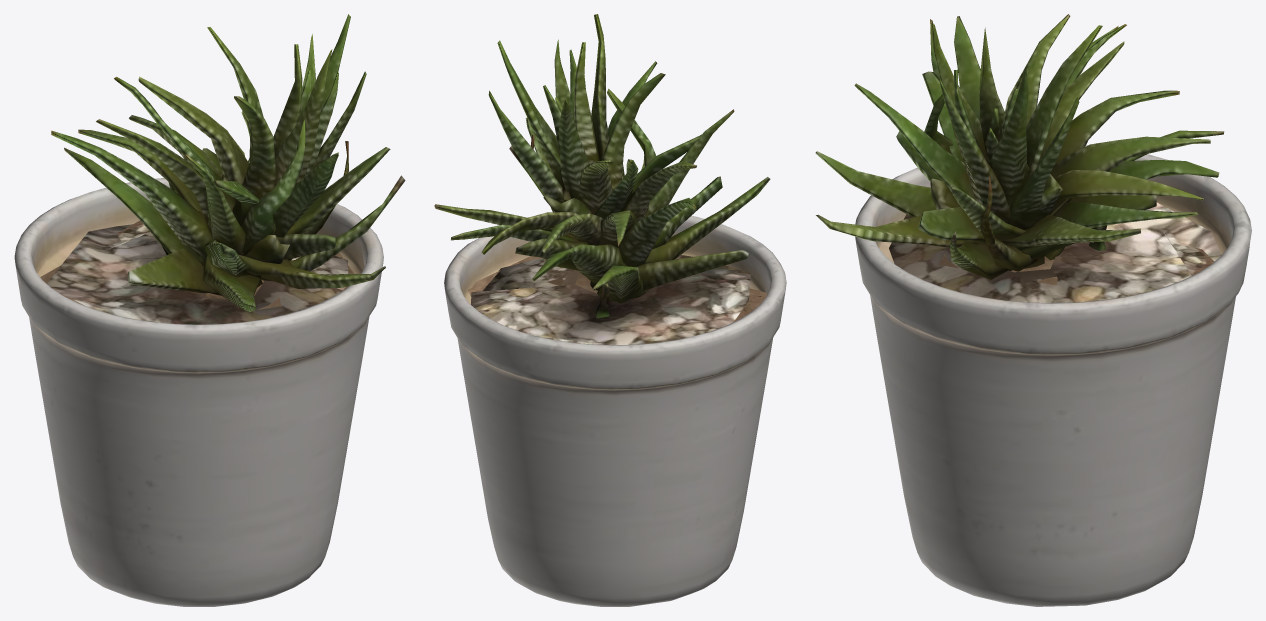
The model's file is potted_plant_04.glb.
The picture shows the model from 3 angles, left to right: view 1: azimuth 30°, elevation 25°; view 2: azimuth 150°, elevation 25°; view 3: azimuth 270°, elevation 25°; orthographic projection. The views are drawn at different scales.
Parts seen in each view (by area): view 1: potted_plant_04_pot, potted_plant_04_plant, potted_plant_04_ground, potted_plant_04_dirt; view 2: potted_plant_04_pot, potted_plant_04_plant, potted_plant_04_ground, potted_plant_04_dirt; view 3: potted_plant_04_pot, potted_plant_04_plant, potted_plant_04_ground, potted_plant_04_dirt.
Boxes of the visible parts, box(x1,y1,x2,y2) form: potted_plant_04_pot: box(14, 178, 383, 606); potted_plant_04_plant: box(51, 14, 405, 311); potted_plant_04_ground: box(46, 224, 348, 324); potted_plant_04_dirt: box(40, 220, 353, 309); potted_plant_04_pot: box(444, 215, 786, 606); potted_plant_04_plant: box(434, 14, 770, 318); potted_plant_04_ground: box(471, 255, 750, 345); potted_plant_04_dirt: box(468, 256, 766, 344); potted_plant_04_pot: box(855, 145, 1251, 606); potted_plant_04_plant: box(815, 14, 1224, 279); potted_plant_04_ground: box(889, 202, 1221, 303); potted_plant_04_dirt: box(939, 229, 1214, 285).
Bounding box in the file's own units: 0.1679 × 0.2671 × 0.1845.
1 material, 1 textured.
